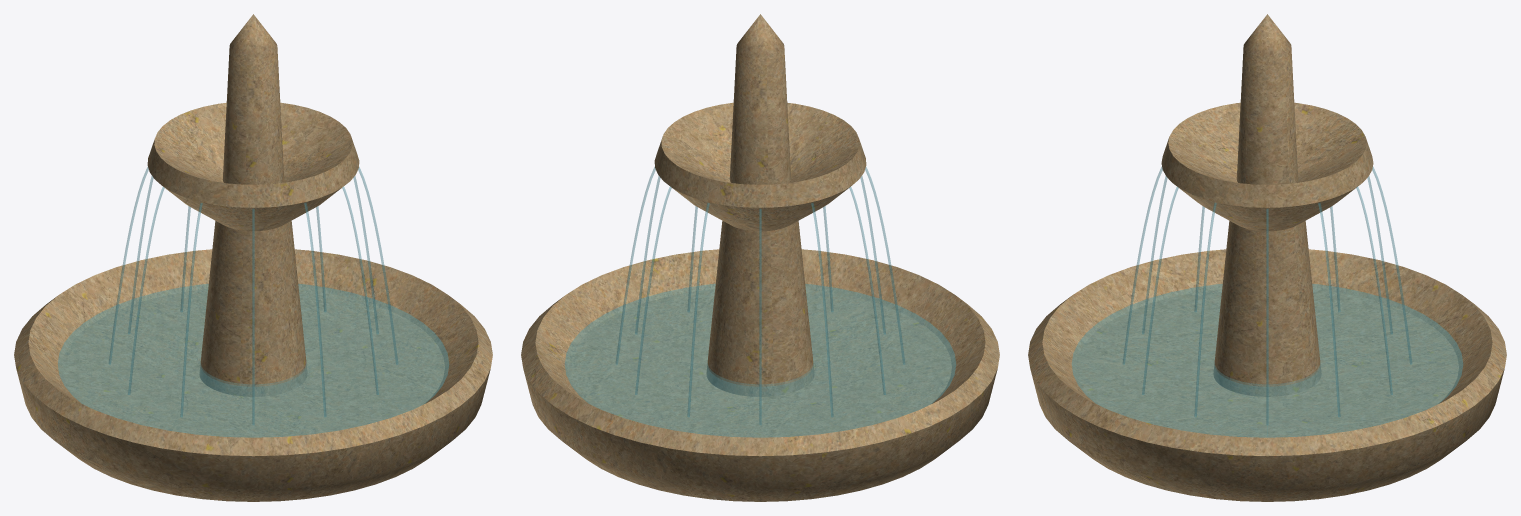
Rendered from fuente_jardin_exterior.glb.
3 renders of one model, left to right at view 1: azimuth 30°, elevation 25°; view 2: azimuth 150°, elevation 25°; view 3: azimuth 270°, elevation 25°, orthographic.
Visible parts, largest first — view 1: fuente_jardin_exterior; view 2: fuente_jardin_exterior; view 3: fuente_jardin_exterior.
Boxes of the visible parts, <box> form: fuente_jardin_exterior: <box>14,14,492,501</box>; fuente_jardin_exterior: <box>521,14,999,501</box>; fuente_jardin_exterior: <box>1028,14,1506,501</box>.
Bounding box in the file's own units: 1.4 × 1.3 × 1.4.
2 materials, 1 textured.
